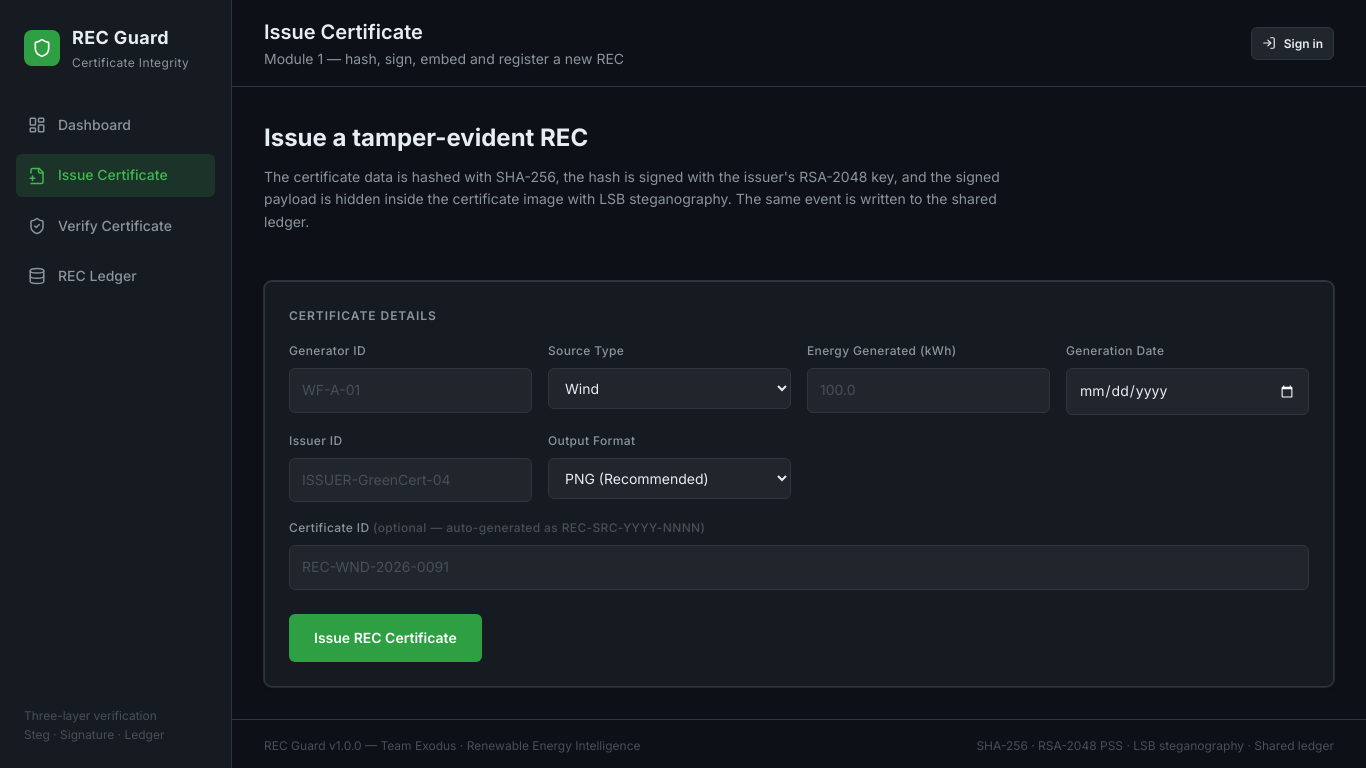
Issue page › blocks submission when required fields are missing
Click the button "Issue REC Certificate" at (385, 638), box [289,614,482,662]
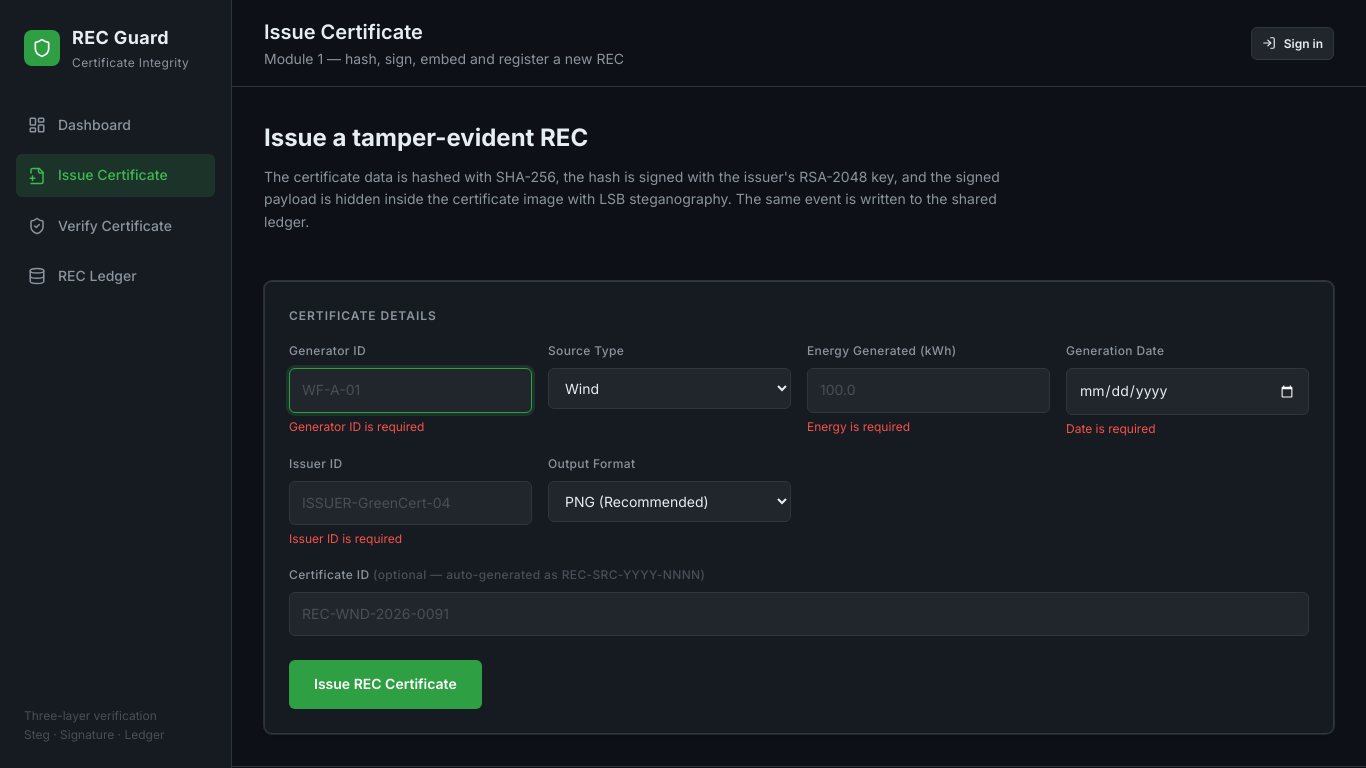
Now the text "Generator ID is required" is shown, box [289,419,424,434]
